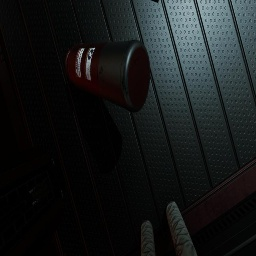NitrogenTank ,: (65, 40, 150, 112)
